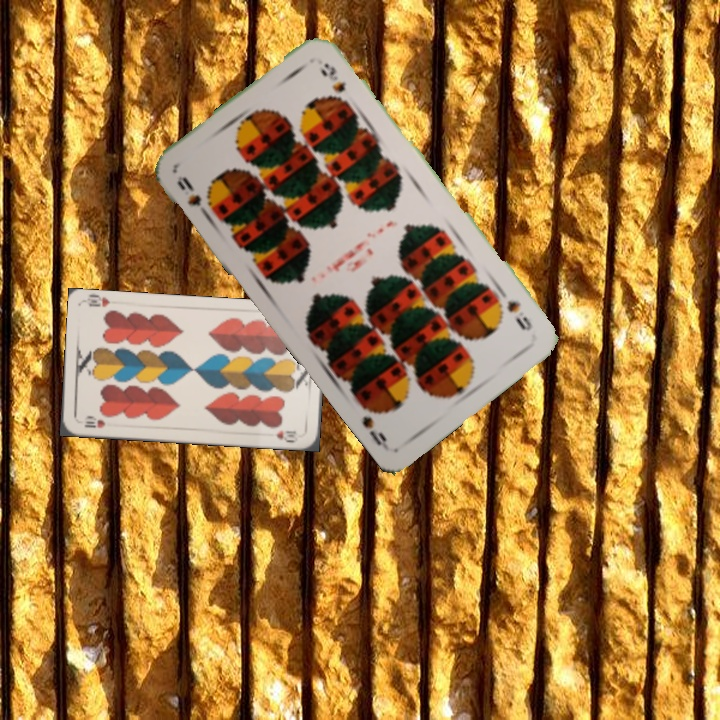H10: (80, 416, 108, 431)
S9: (172, 171, 213, 222), (493, 285, 535, 334)
